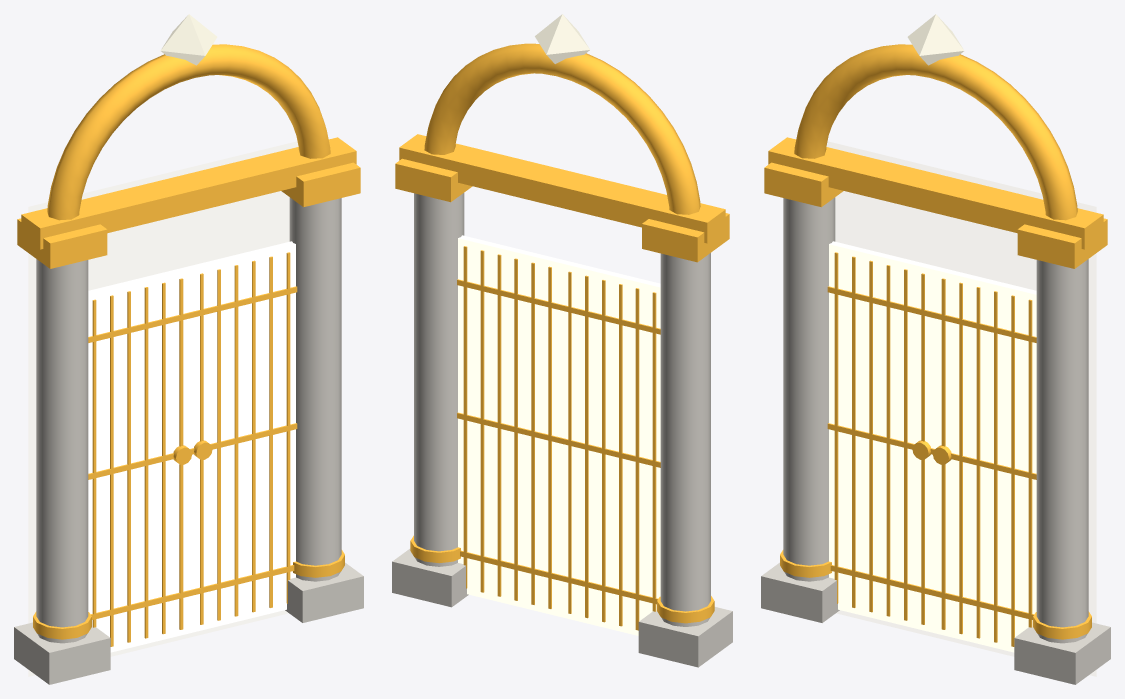
Rendered from heavens-gate.glb.
The picture shows the model from 3 angles, left to right: view 1: azimuth 30°, elevation 25°; view 2: azimuth 150°, elevation 25°; view 3: azimuth 330°, elevation 25°; orthographic projection. The views are drawn at different scales.
Parts seen in each view (by area): view 1: Heaven's Gate; view 2: Heaven's Gate; view 3: Heaven's Gate.
Boxes of the visible parts, x1=… form: Heaven's Gate: x1=14, y1=14, x2=363, y2=684; Heaven's Gate: x1=392, y1=14, x2=732, y2=667; Heaven's Gate: x1=761, y1=14, x2=1110, y2=684.
Size of what is drawn, in the model's own units: 15.5 by 30 by 3.
